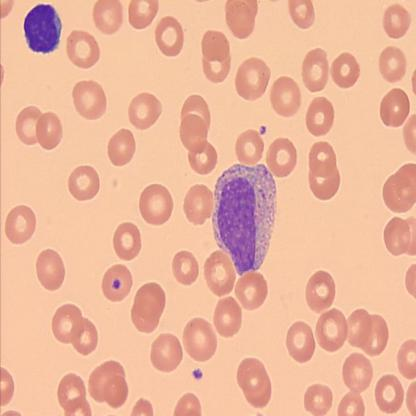Metamyelocyte: (210, 161, 278, 275)
